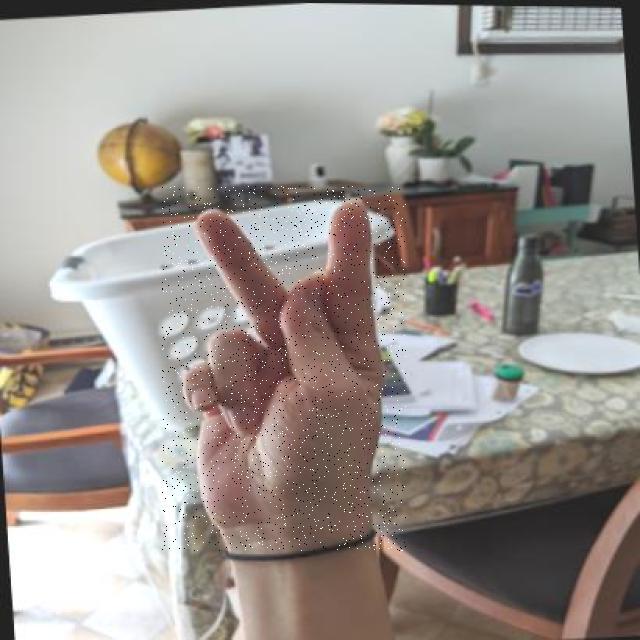K: (162, 186, 406, 551)
